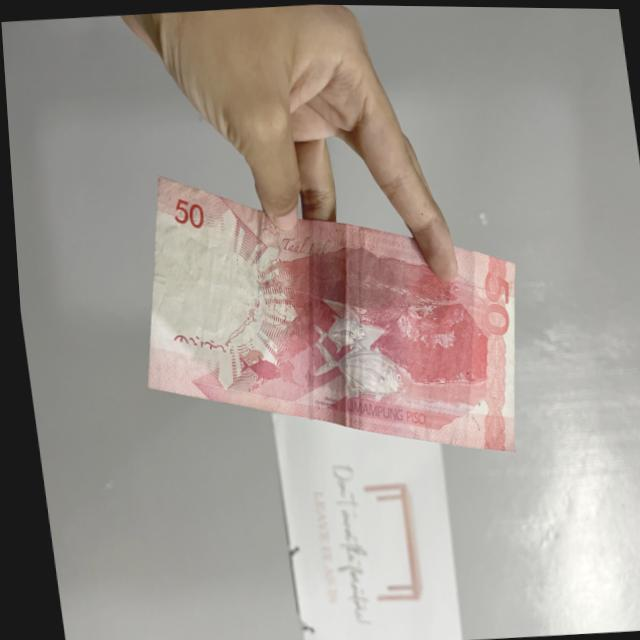see_through_mark: (152, 320, 238, 377)
